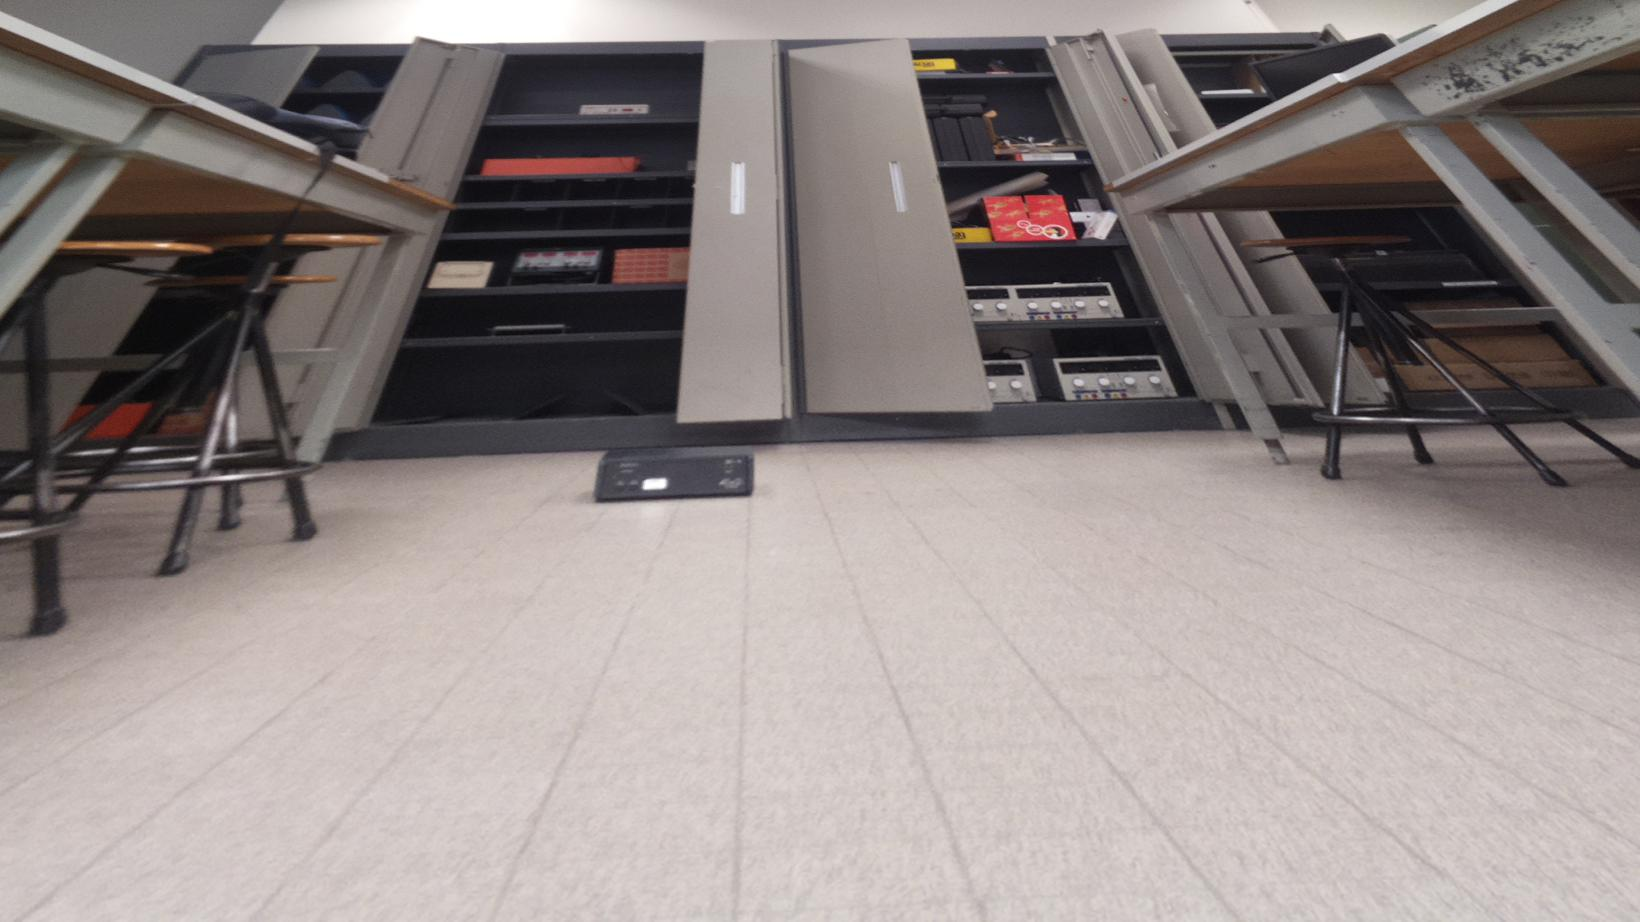medium: (596, 446, 759, 498)
